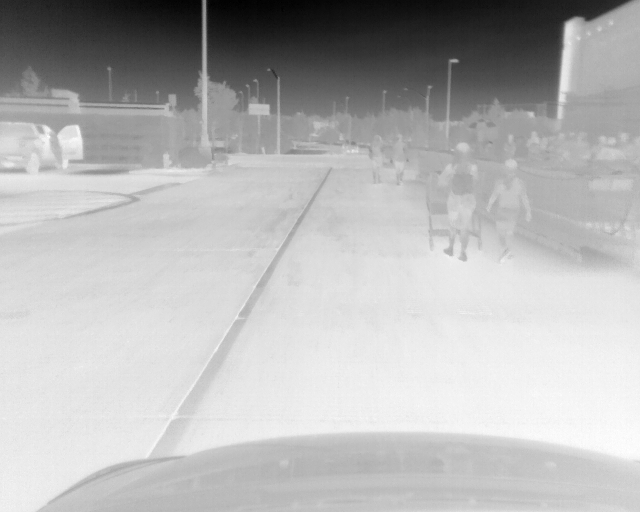car: (1, 121, 83, 175), (343, 140, 358, 155)
people: (441, 142, 481, 264), (489, 157, 532, 262), (390, 133, 410, 185), (368, 132, 387, 183), (44, 131, 63, 168), (566, 129, 588, 160), (614, 129, 634, 161), (598, 137, 621, 161), (501, 131, 516, 154), (525, 132, 542, 152)
